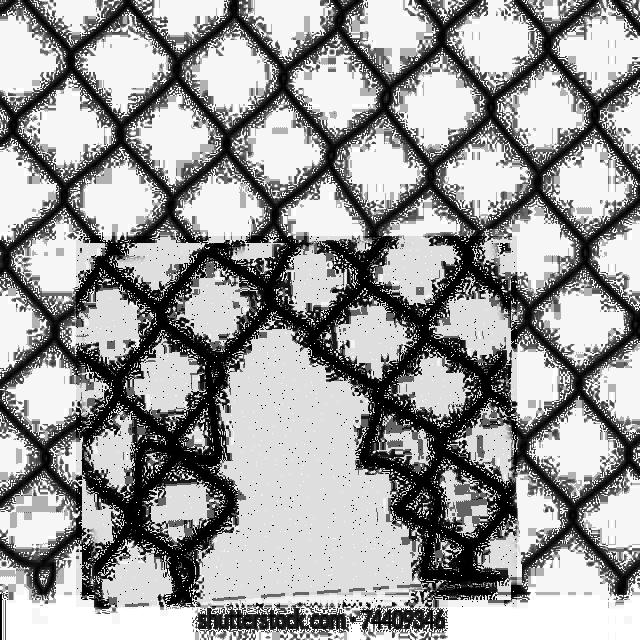anomaly-fence: (76, 236, 517, 607)
